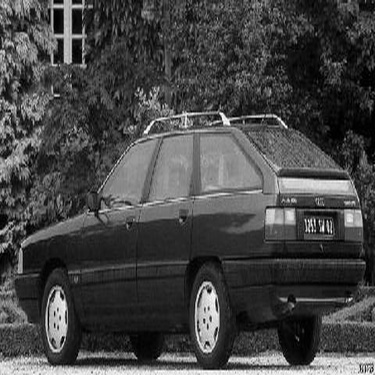car: (13, 99, 370, 369)
